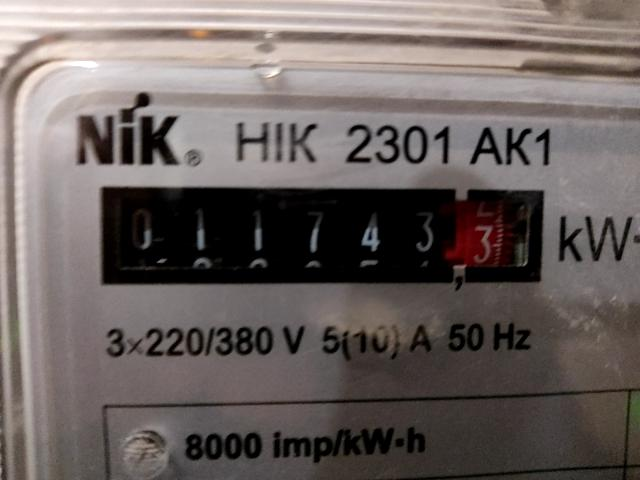0: (127, 205, 156, 252)
1: (247, 206, 268, 254), (192, 206, 209, 254)
3: (411, 208, 439, 255), (471, 222, 495, 266)
4: (357, 207, 385, 255)
7: (303, 208, 327, 256)
screen: (85, 177, 551, 295)
